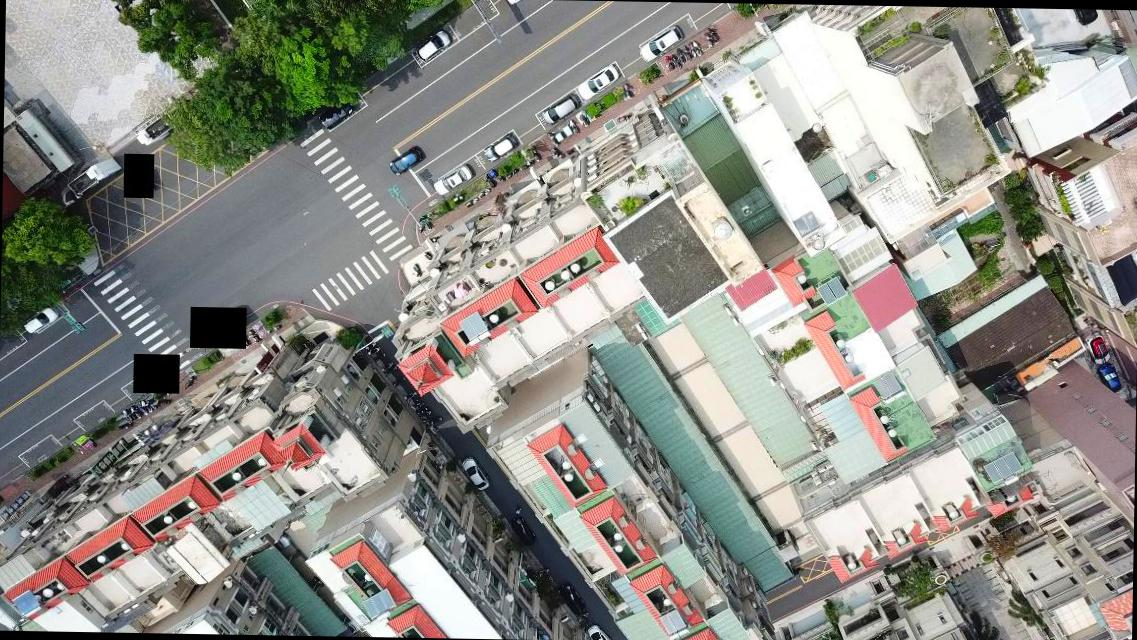vehicle: (638, 24, 684, 62), (576, 63, 620, 100), (431, 164, 473, 196), (482, 132, 520, 164), (414, 29, 452, 61), (459, 454, 491, 491), (541, 94, 579, 125), (387, 146, 422, 177), (318, 100, 354, 130), (556, 582, 586, 616), (23, 308, 59, 334), (1084, 331, 1111, 364), (509, 516, 537, 545), (1096, 363, 1122, 392), (586, 624, 614, 640)
